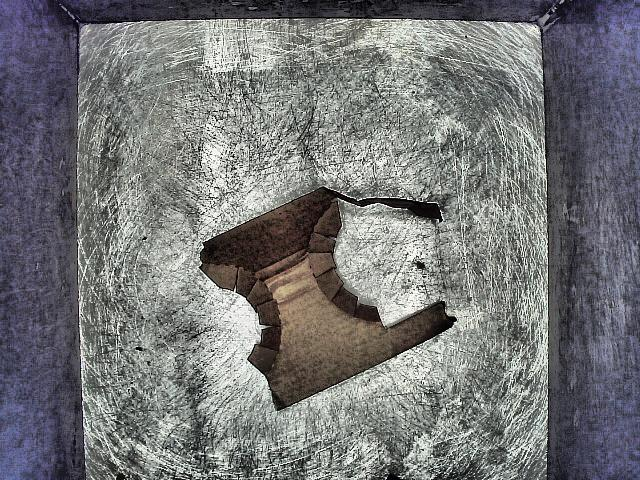Paper: (167, 163, 467, 419)
